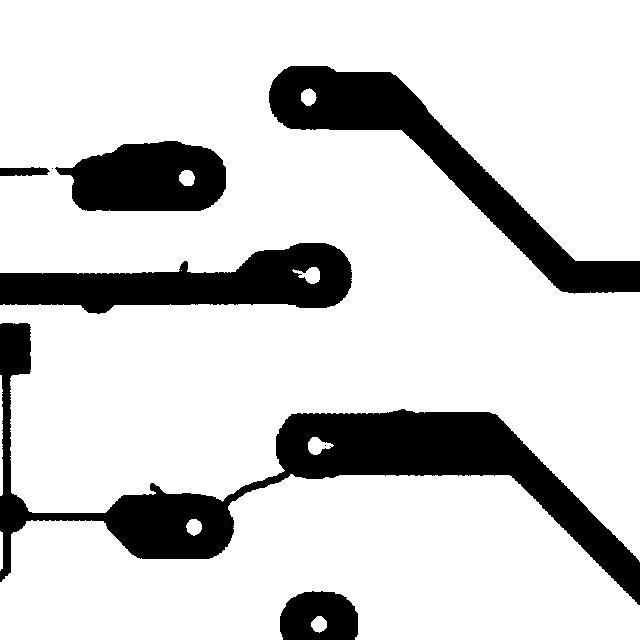mousebite: (307, 432, 343, 459), (282, 259, 316, 287)
open: (36, 152, 69, 186)
short: (213, 457, 302, 516)
spur: (140, 473, 176, 507), (168, 251, 197, 286)
